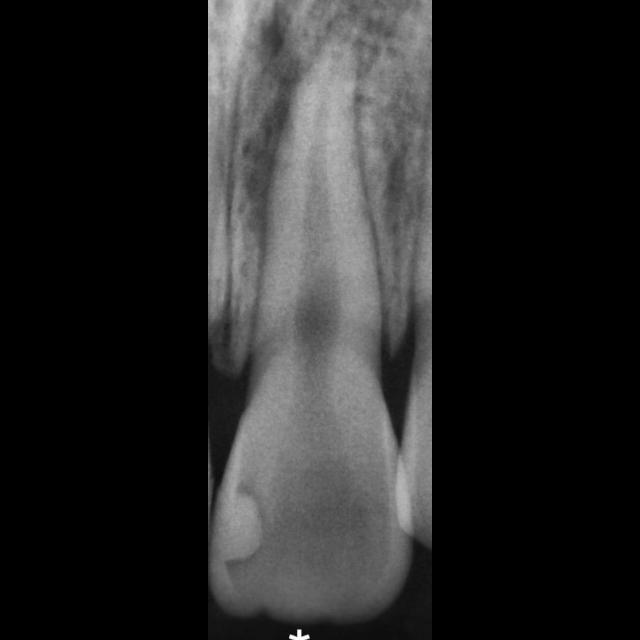tooth: (209, 15, 415, 626)
